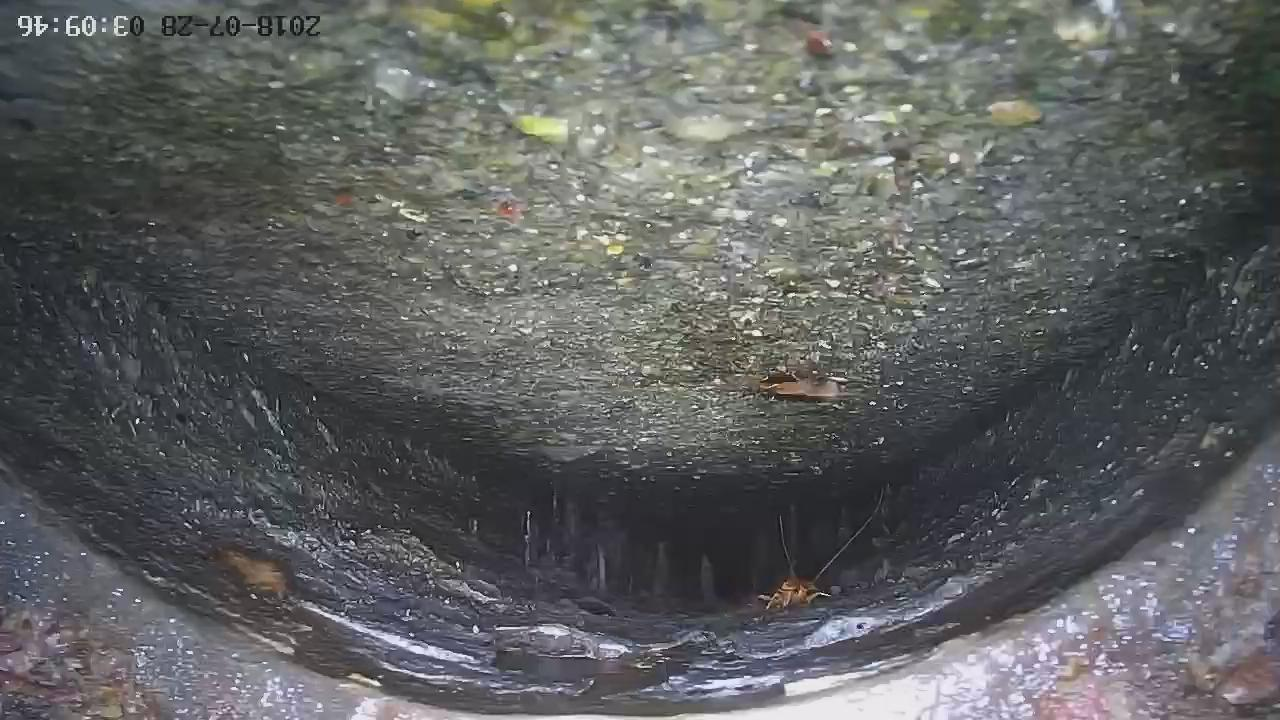FZ: (1, 1, 1261, 494)
JG: (1, 249, 1280, 716)
